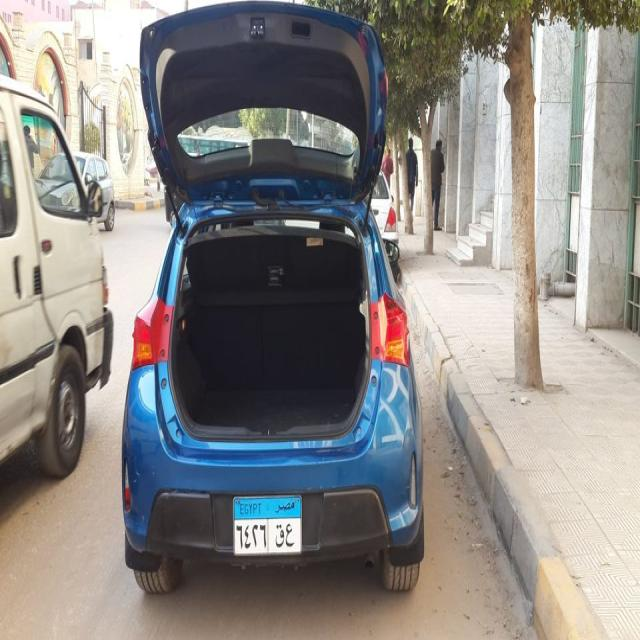License Plate: (231, 492, 303, 558)
